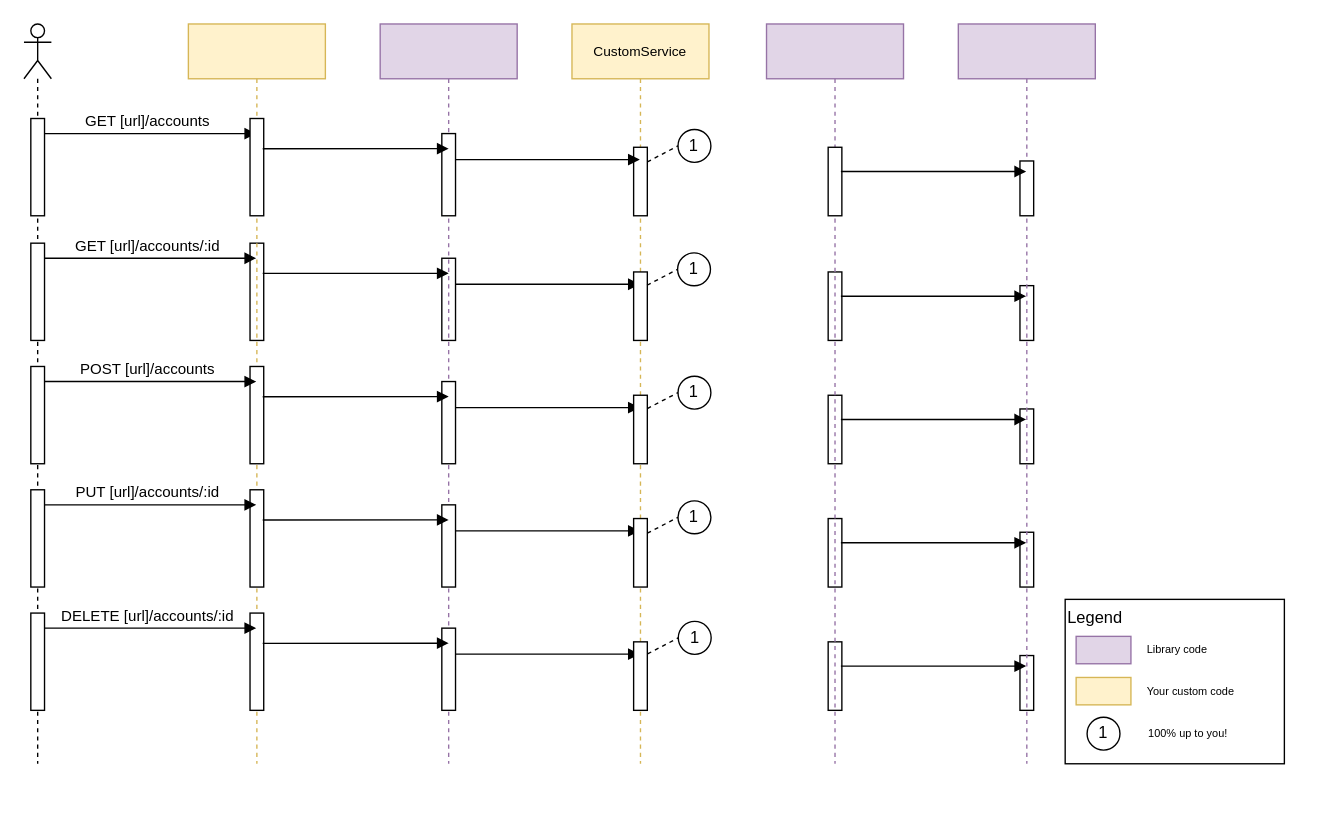
Some shapes in this 1336 by 829 pixel diagram are drawn without their labels. The shapes that lost their labels are listed below. From the top down, each one's centre as x and y in pixels, then its label:
(x=256, y=393): AccountsController
(x=448, y=393): CrudControllerBase
(x=834, y=393): CrudServiceBase
(x=1026, y=393): CrudRepository
